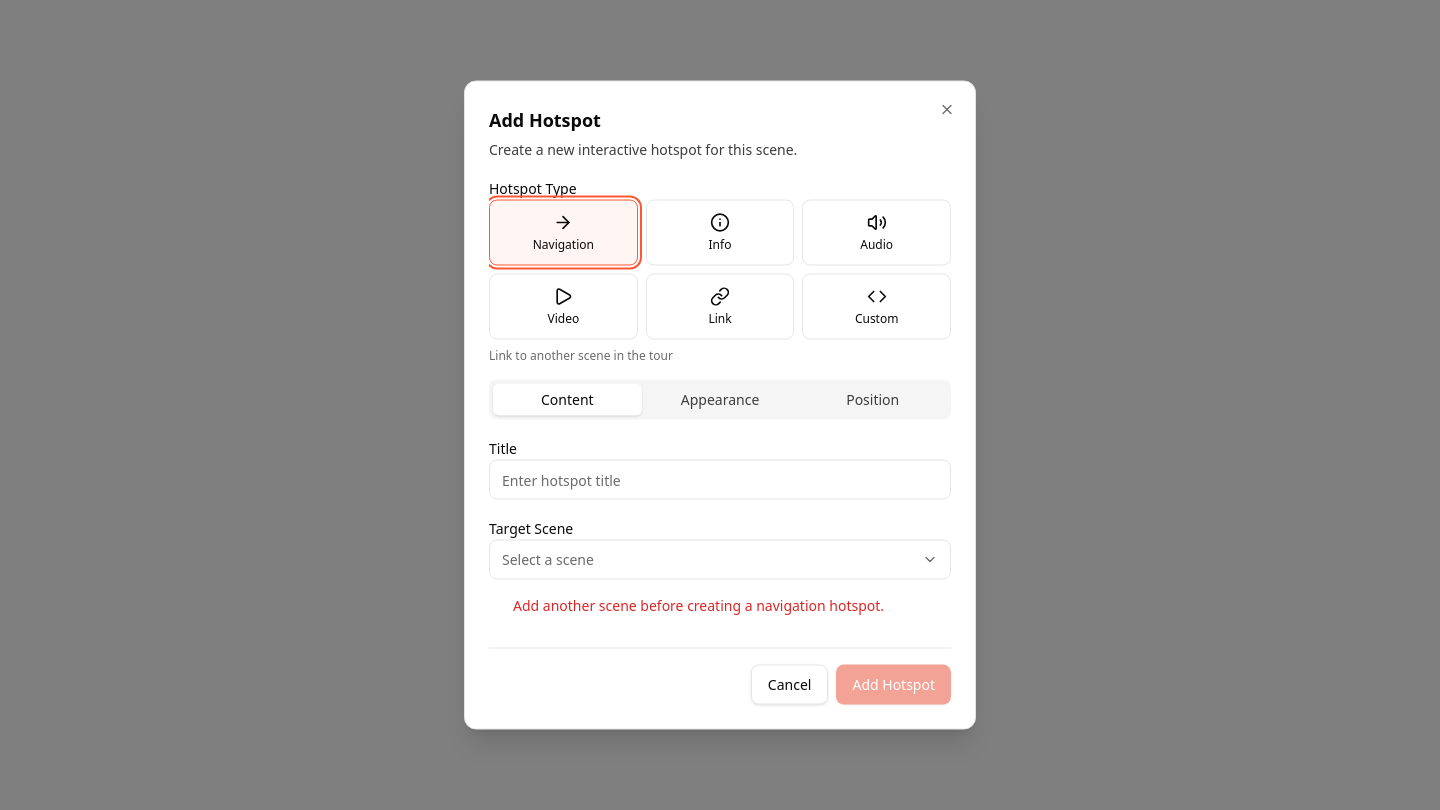
Scenario: HotspotEditorModal video upload › shows the Upload video button for video hotspots
The width and height of the screenshot is (1440, 810).
Click the button "Video" at (563, 306), box 489,274 -> 638,340
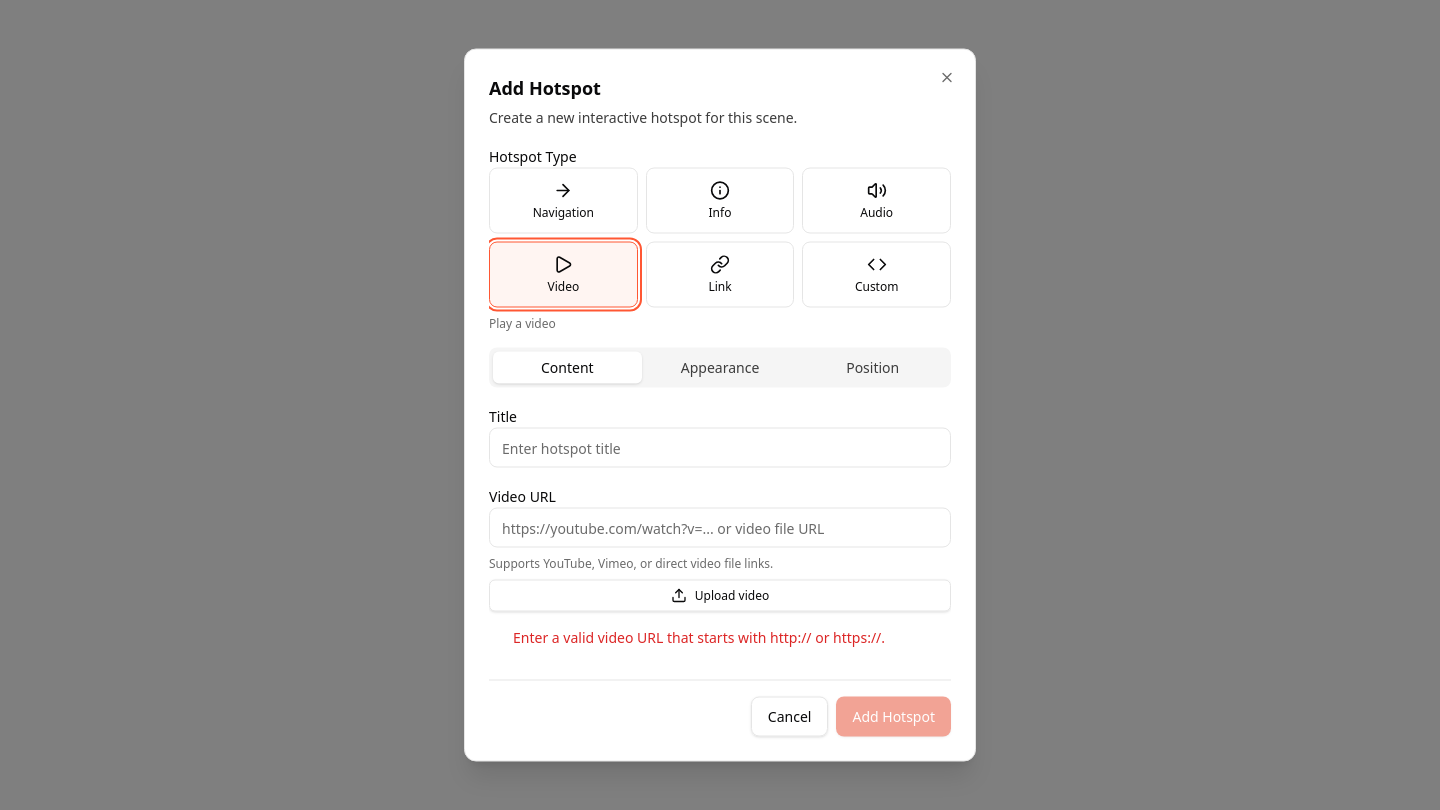
Expected: the field labelled "Video URL" is shown, 489,508 -> 951,548
Expected: the button "Upload video" is shown, 489,580 -> 951,612
